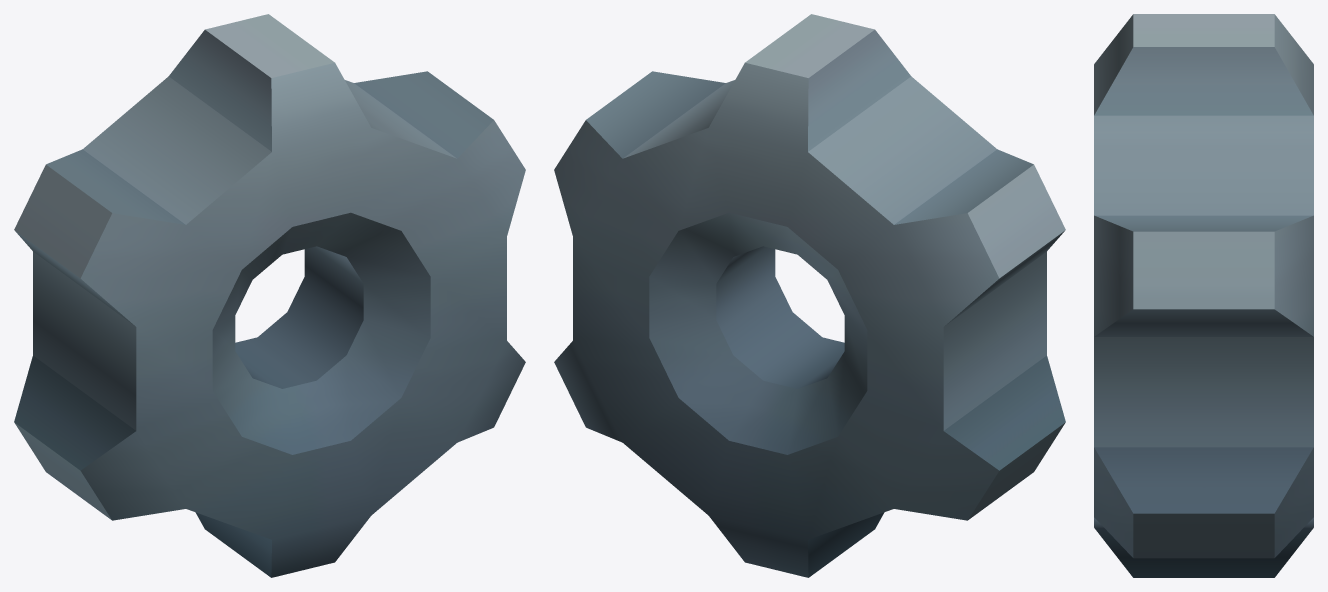
The model's file is kugghjul.glb.
3 views of the same model, side by side, from view 1: azimuth 30°, elevation 25°; view 2: azimuth 150°, elevation 25°; view 3: azimuth 270°, elevation 25° (orthographic). The views are drawn at different scales.
Visible parts, largest first — view 1: Parts_Cog; view 2: Parts_Cog; view 3: Parts_Cog.
Boxes of the visible parts, x1,y1,x2,y2 form: Parts_Cog: (14,14,525,577); Parts_Cog: (554,14,1065,577); Parts_Cog: (1094,14,1313,577).
Size of the model in its own units: 0.373 by 0.4 by 0.15.
Materials: 1 (1 with a texture image).
